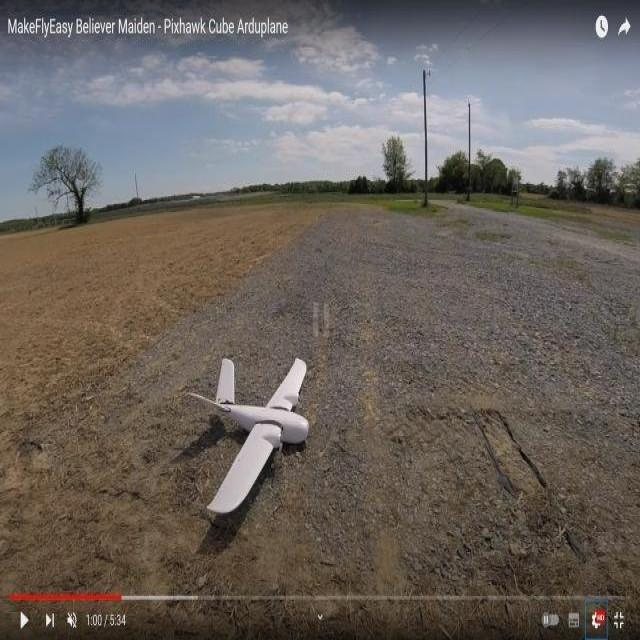Airplane: (185, 351, 312, 520)
